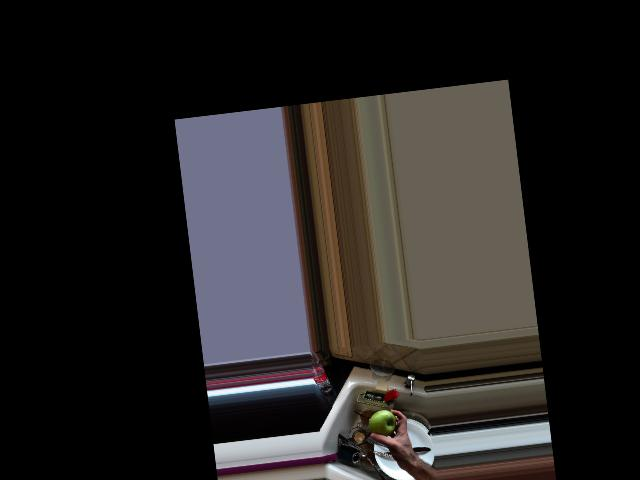apple: (366, 407, 400, 441)
